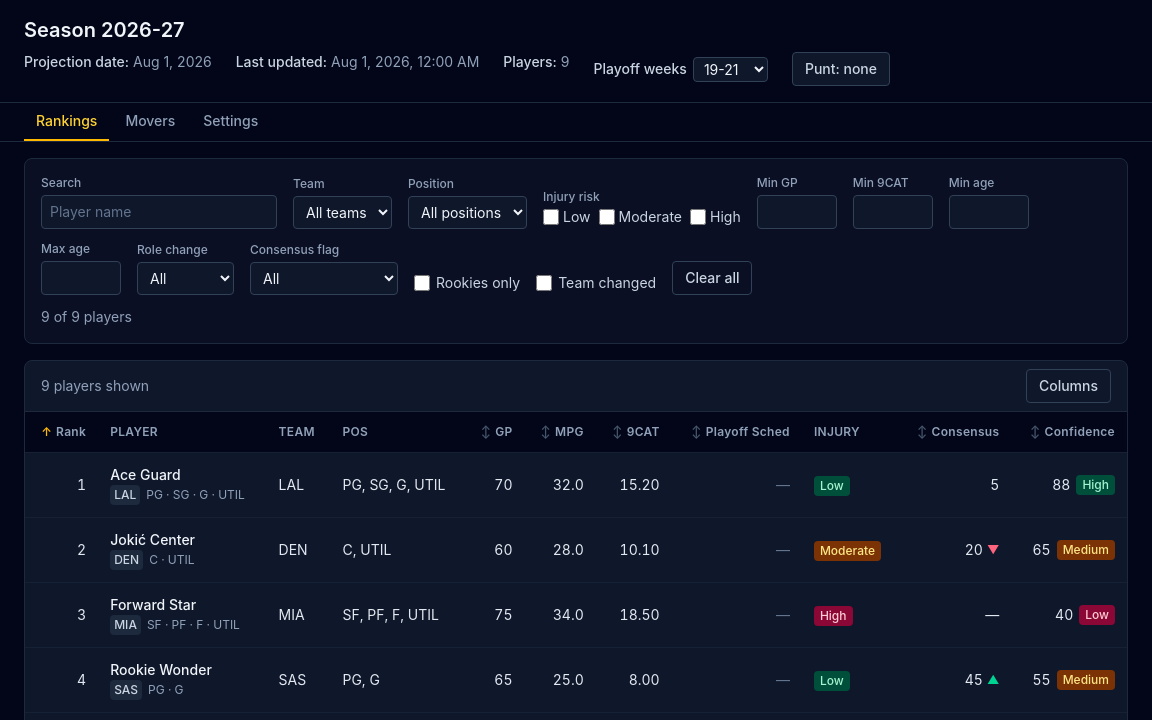
Test: App › renders the table once the dataset loads, and shows an empty state with a working clear button on an impossible filter
Expected: the text "Ace Guard" is shown, [110, 466, 181, 483]
Type "no such player" into the field labelled "Search" at (159, 212), box [41, 195, 277, 229]
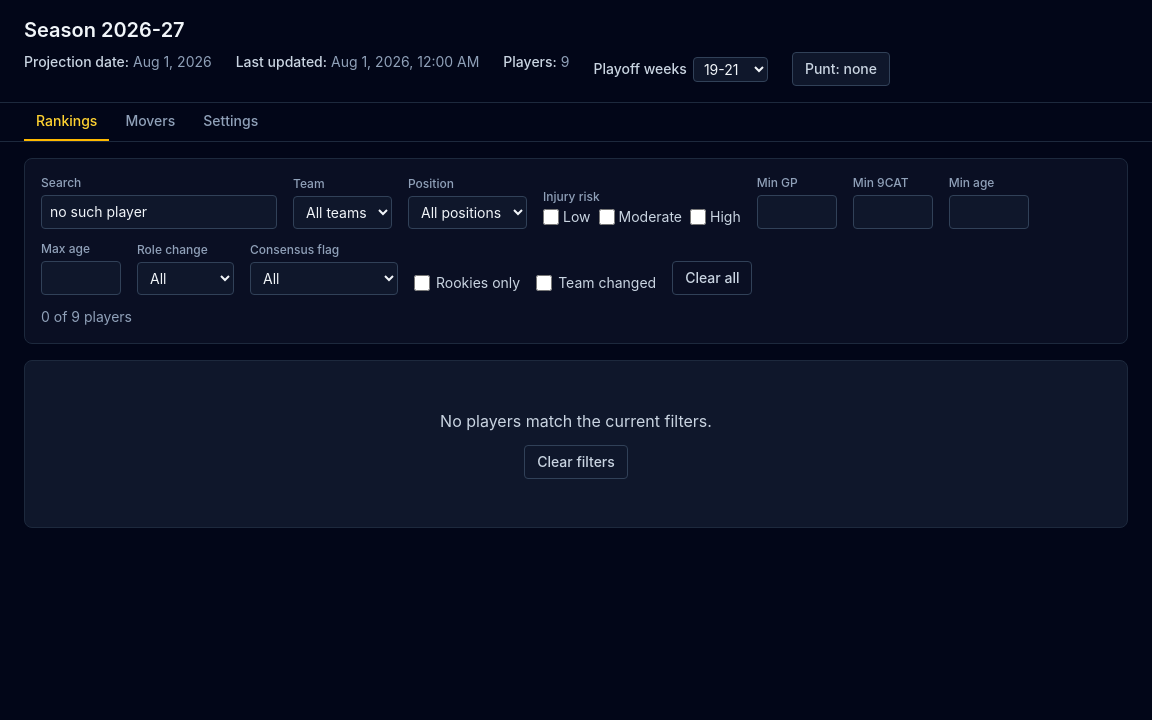
Now the text "No players match the current filters." is shown, box [440, 409, 712, 433]
Click the button "Clear filters" at (576, 462), box [524, 445, 628, 479]
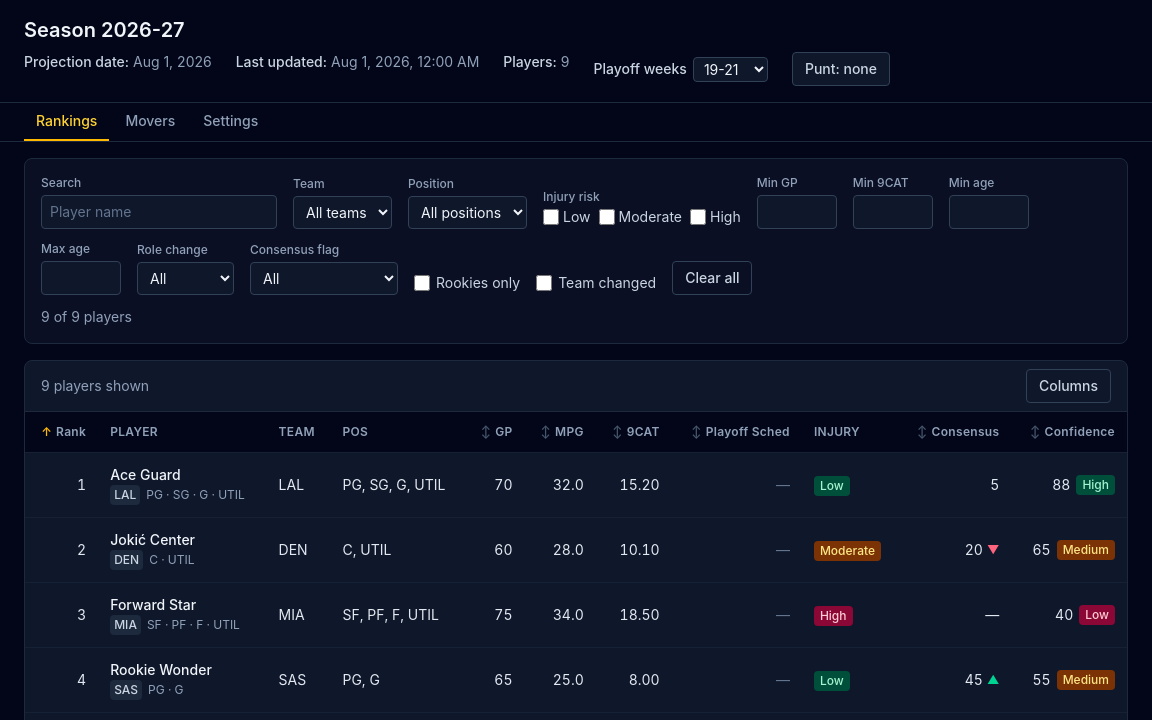
Now the text "Ace Guard" is shown, box [110, 466, 181, 483]
